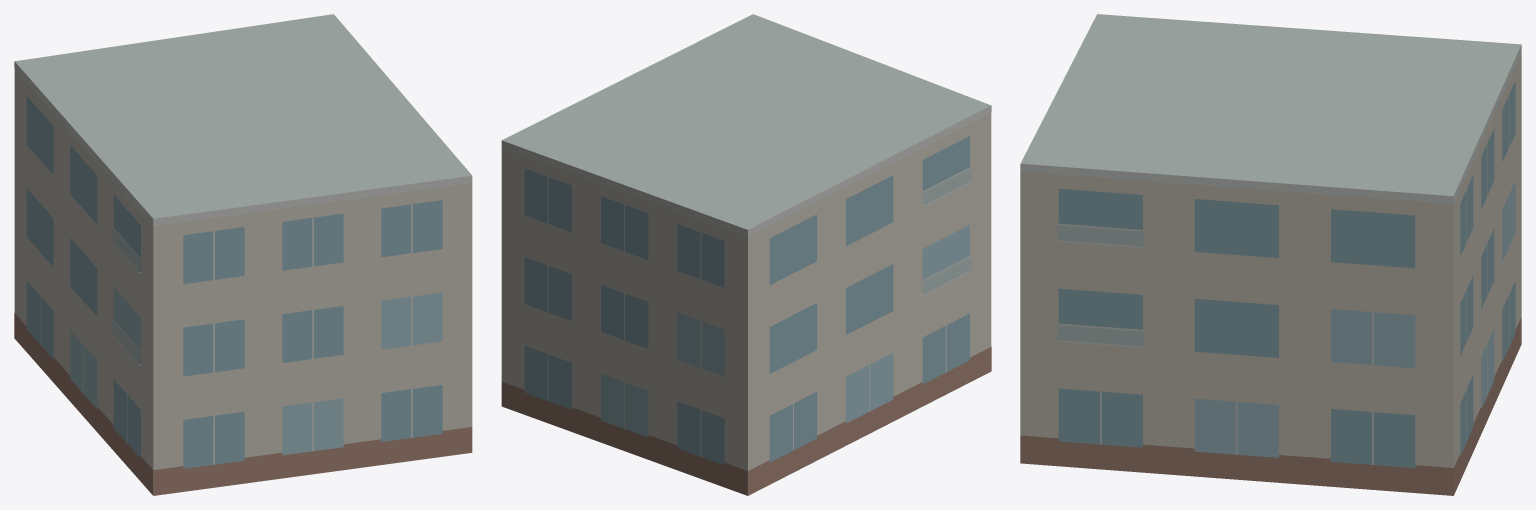
File: survey-upis-32909346.glb
The picture shows the model from 3 angles, left to right: view 1: azimuth 30°, elevation 25°; view 2: azimuth 150°, elevation 25°; view 3: azimuth 270°, elevation 25°; orthographic projection. The views are drawn at different scales.
Parts seen in each view (by area): view 1: survey-upis-32909346.tmp; view 2: survey-upis-32909346.tmp; view 3: survey-upis-32909346.tmp.
Boxes of the visible parts, x1,y1,x2,y2 form: survey-upis-32909346.tmp: (14,14,472,495); survey-upis-32909346.tmp: (501,14,991,495); survey-upis-32909346.tmp: (1020,14,1521,495).
Bounding box in the file's own units: 11.94 × 9.15 × 13.88.
